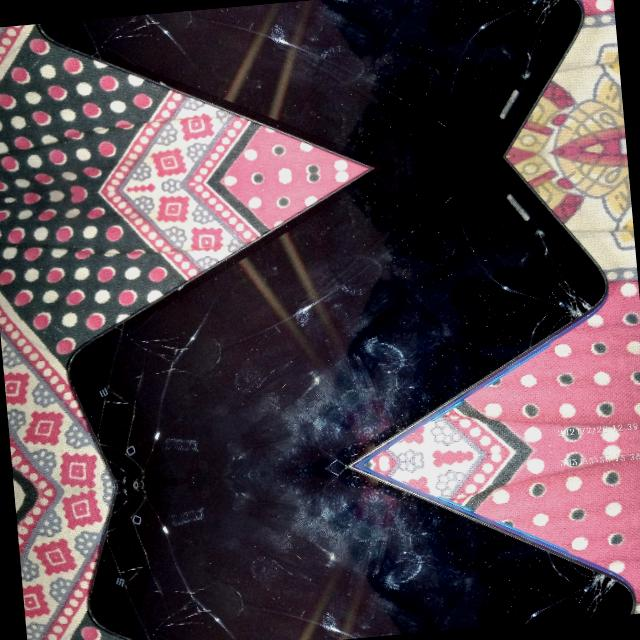phone_screen: (70, 156, 606, 485), (90, 466, 633, 639), (40, 0, 582, 166)
